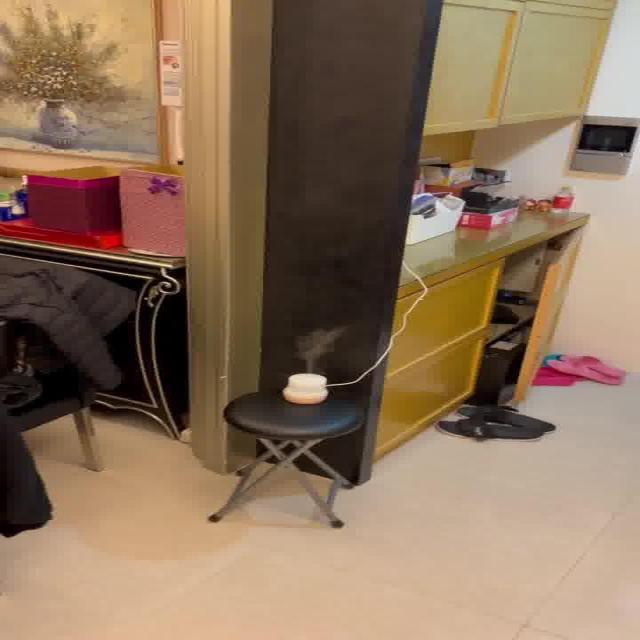fire: (292, 324, 349, 370)
